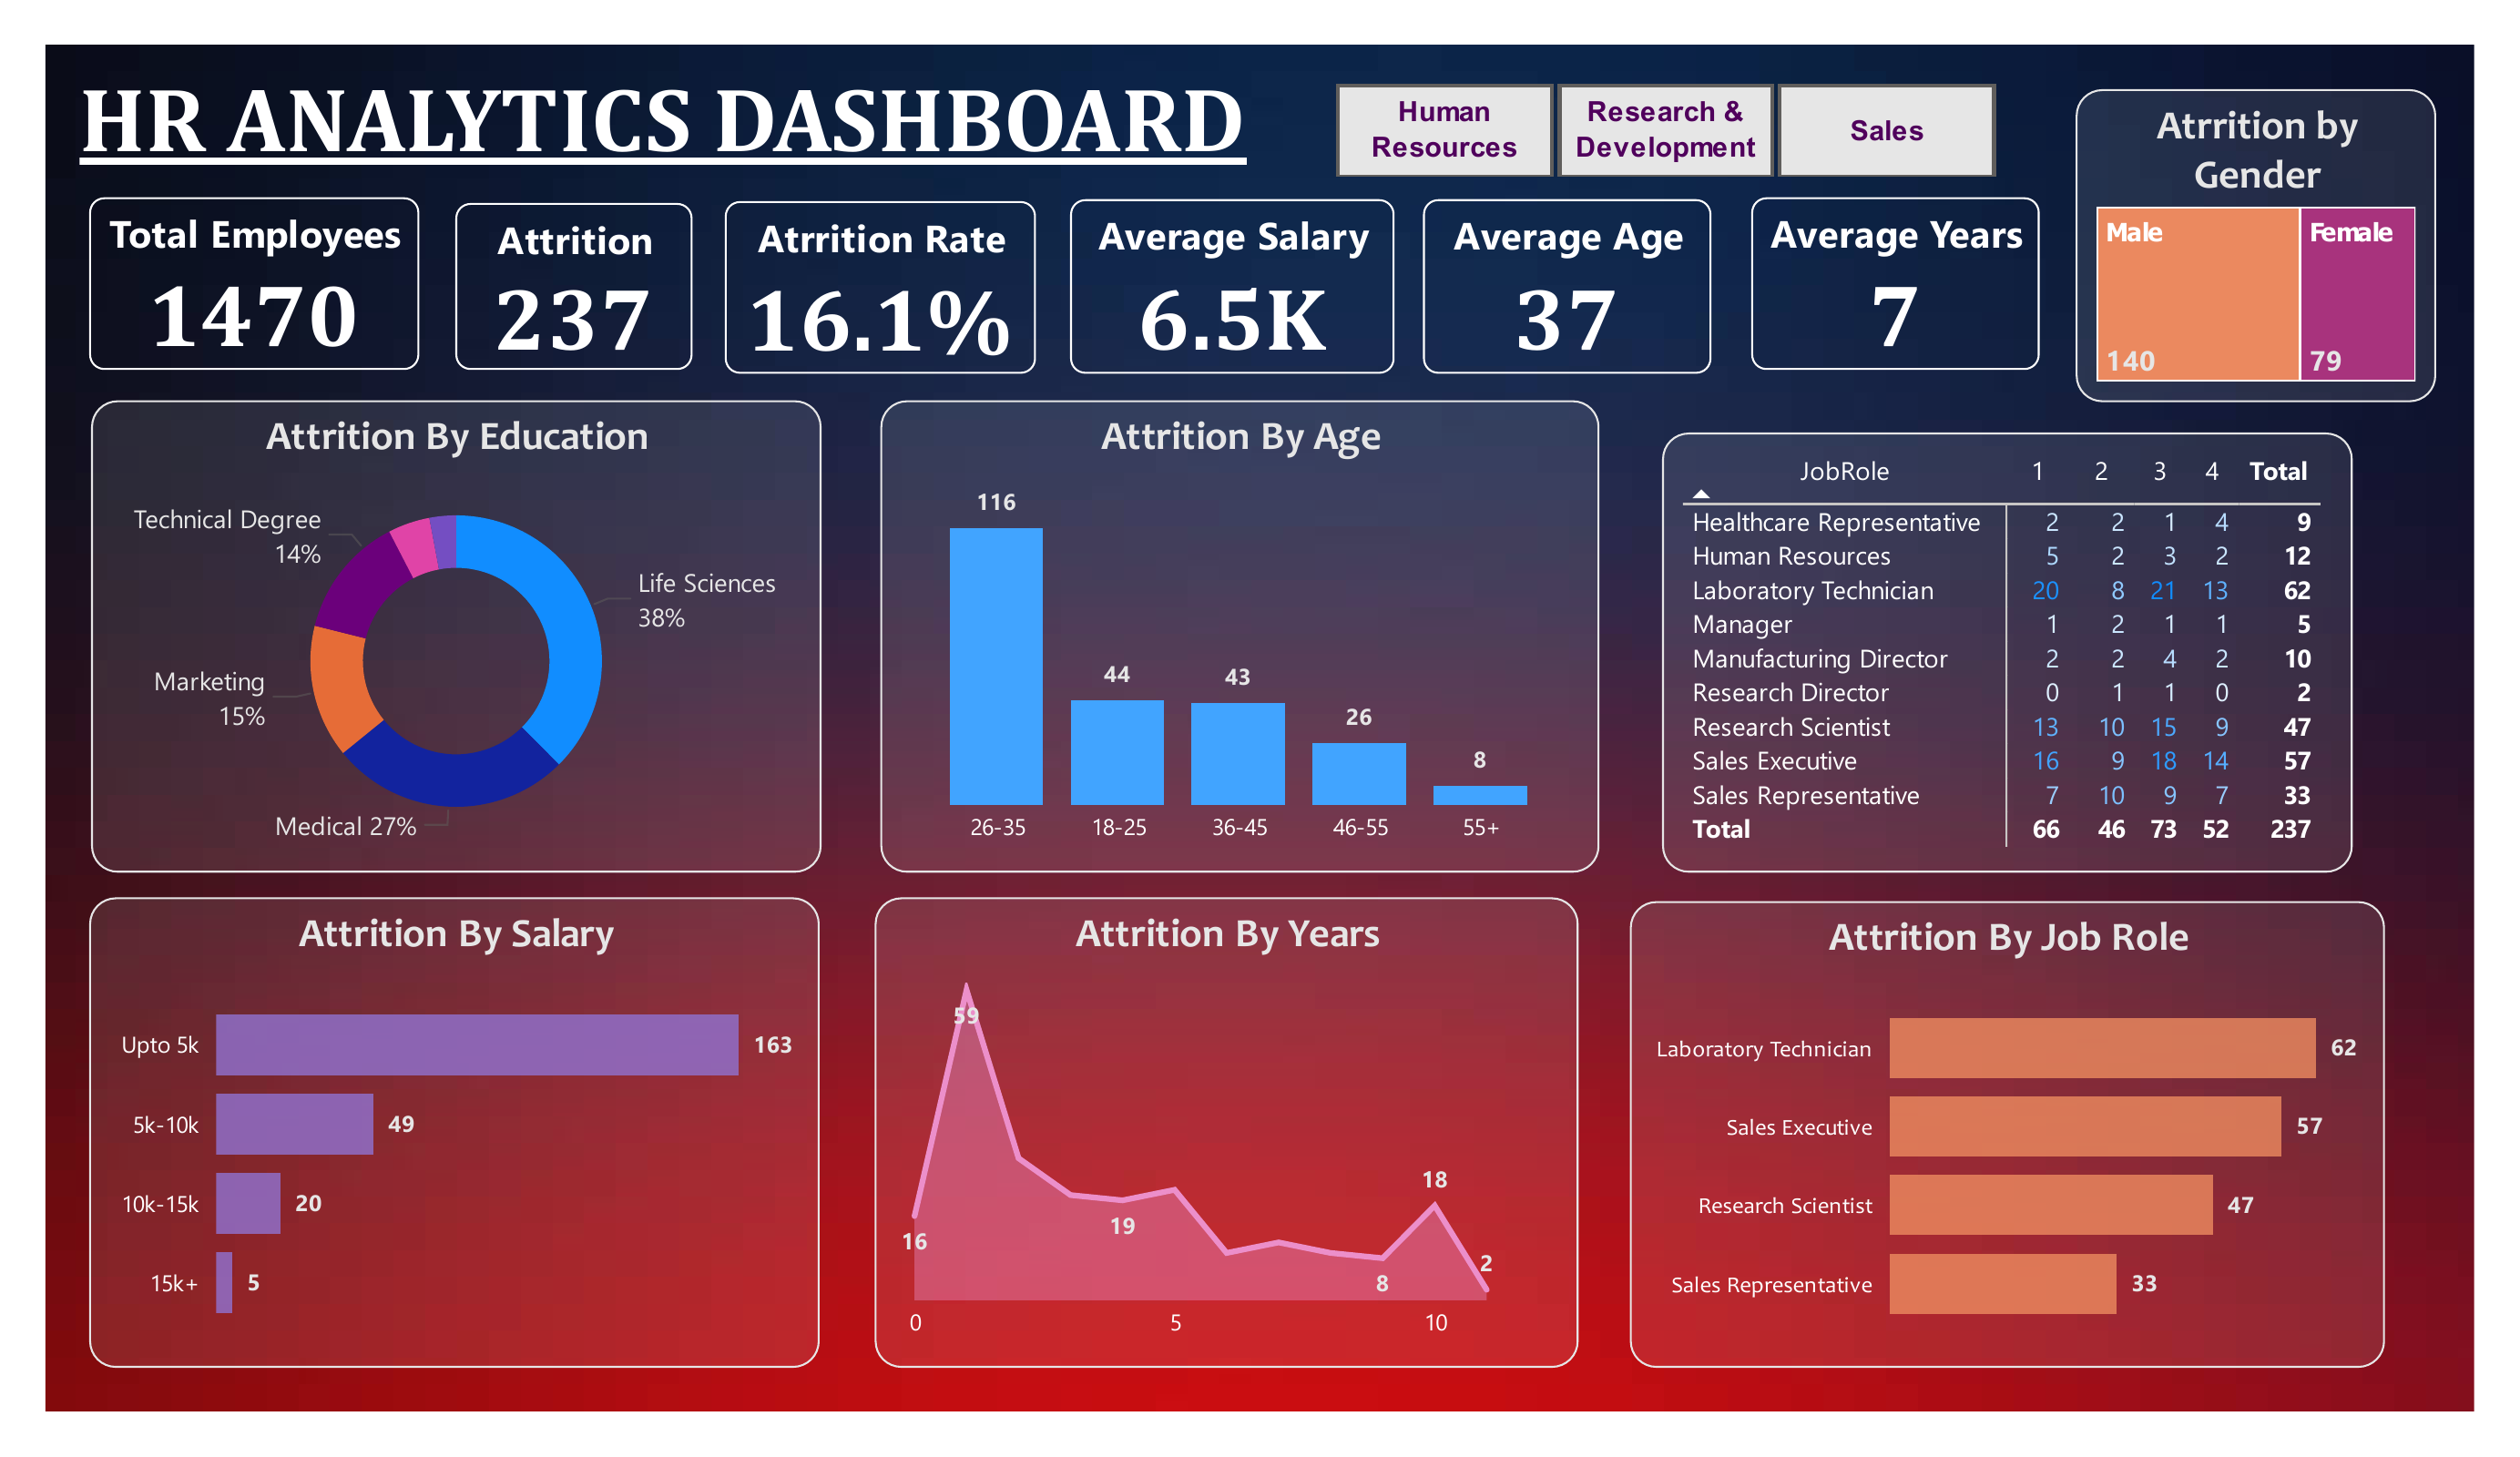

This screenshot's page, from the dashboard's own definition file:
{"tool":"powerbi","page":{"name":"Page 1","canvas":[1280,720],"ordinal":0},"visuals":[{"type":"card","title":"Atrrition Rate","fields":{"Values":["HR_Analytics.Attrition_rate"]},"box":[358.3,82,164.1,90.5],"z":0},{"type":"card","title":"Total Employees","fields":{"Values":["Count(HR_Analytics.EmpID)"]},"box":[22.9,79.6,173.7,91.7],"z":1000},{"type":"card","title":"Attrition","fields":{"Values":["Sum(HR_Analytics.AttritionCount)"]},"box":[216,83.2,125.5,88.1],"z":2000},{"type":"card","title":"Average Age","fields":{"Values":["Avg(HR_Analytics.Age)"]},"box":[726.3,80.8,152,91.7],"z":3000},{"type":"card","title":"Average Salary ","fields":{"Values":["Avg(HR_Analytics.MonthlyIncome)"]},"box":[540.5,80.8,170.1,91.7],"z":4000},{"type":"card","title":"Average Years","fields":{"Values":["Avg(HR_Analytics.YearsAtCompany)"]},"box":[898.8,79.6,152,91.7],"z":5000},{"type":"donutChart","title":"Attrition By Education","fields":{"Y":["Sum(HR_Analytics.AttritionCount)"],"Category":["HR_Analytics.EducationField"]},"box":[24.1,187,384.9,248.5],"z":6000},{"type":"columnChart","title":"Attrition By Age","fields":{"Category":["HR_Analytics.AgeGroup"],"Y":["Sum(HR_Analytics.AttritionCount)"]},"box":[440.4,187,378.8,248.5],"z":7000},{"type":"pivotTable","fields":{"Rows":["HR_Analytics.JobRole"],"Columns":["HR_Analytics.JobSatisfaction"],"Values":["Sum(HR_Analytics.AttritionCount)"]},"box":[851.7,203.9,364.3,231.6],"z":8000},{"type":"clusteredBarChart","title":"Attrition By Salary","fields":{"Category":["HR_Analytics.SalarySlab"],"Y":["Sum(HR_Analytics.AttritionCount)"]},"box":[22.9,448.8,384.9,248.5],"z":9000},{"type":"barChart","title":"Attrition By Job Role","fields":{"Category":["HR_Analytics.JobRole"],"Y":["Sum(HR_Analytics.AttritionCount)"]},"box":[834.9,451.2,398.1,246.1],"z":10000},{"type":"areaChart","title":"Attrition By Years","fields":{"Category":["HR_Analytics.YearsAtCompany"],"Y":["Sum(HR_Analytics.AttritionCount)"]},"box":[436.7,448.8,371.6,248.5],"z":11000},{"type":"treemap","title":"Atrrition by Gender","fields":{"Group":["HR_Analytics.Gender"],"Values":["Sum(HR_Analytics.AttritionCount)"]},"box":[1070.1,22.9,189.4,165.3],"z":12000},{"type":"textbox","box":[13.3,4.8,641.8,78.4],"z":13000},{"type":"slicer","fields":{"Values":["HR_Analytics.Department"]},"box":[655.1,14.5,395.7,54.3],"z":14000}]}

Visuals, with their boxes in screenshot pixels (x1, y1, x2, y2):
"Atrrition Rate" card: rect(715, 158, 1045, 341)
"Total Employees" card: rect(39, 154, 389, 338)
"Attrition" card: rect(428, 161, 681, 338)
"Average Age" card: rect(1455, 156, 1761, 341)
"Average Salary " card: rect(1081, 156, 1423, 341)
"Average Years" card: rect(1802, 154, 2108, 338)
"Attrition By Education" donutChart: rect(42, 370, 817, 870)
"Attrition By Age" columnChart: rect(880, 370, 1642, 870)
pivotTable - HR_Analytics.JobRole x HR_Analytics.JobSatisfaction: rect(1708, 403, 2441, 870)
"Attrition By Salary" clusteredBarChart: rect(39, 897, 814, 1397)
"Attrition By Job Role" barChart: rect(1674, 902, 2475, 1397)
"Attrition By Years" areaChart: rect(872, 897, 1620, 1397)
"Atrrition by Gender" treemap: rect(2148, 39, 2519, 372)
textbox: rect(20, 3, 1312, 161)
slicer - HR_Analytics.Department: rect(1312, 23, 2108, 132)
